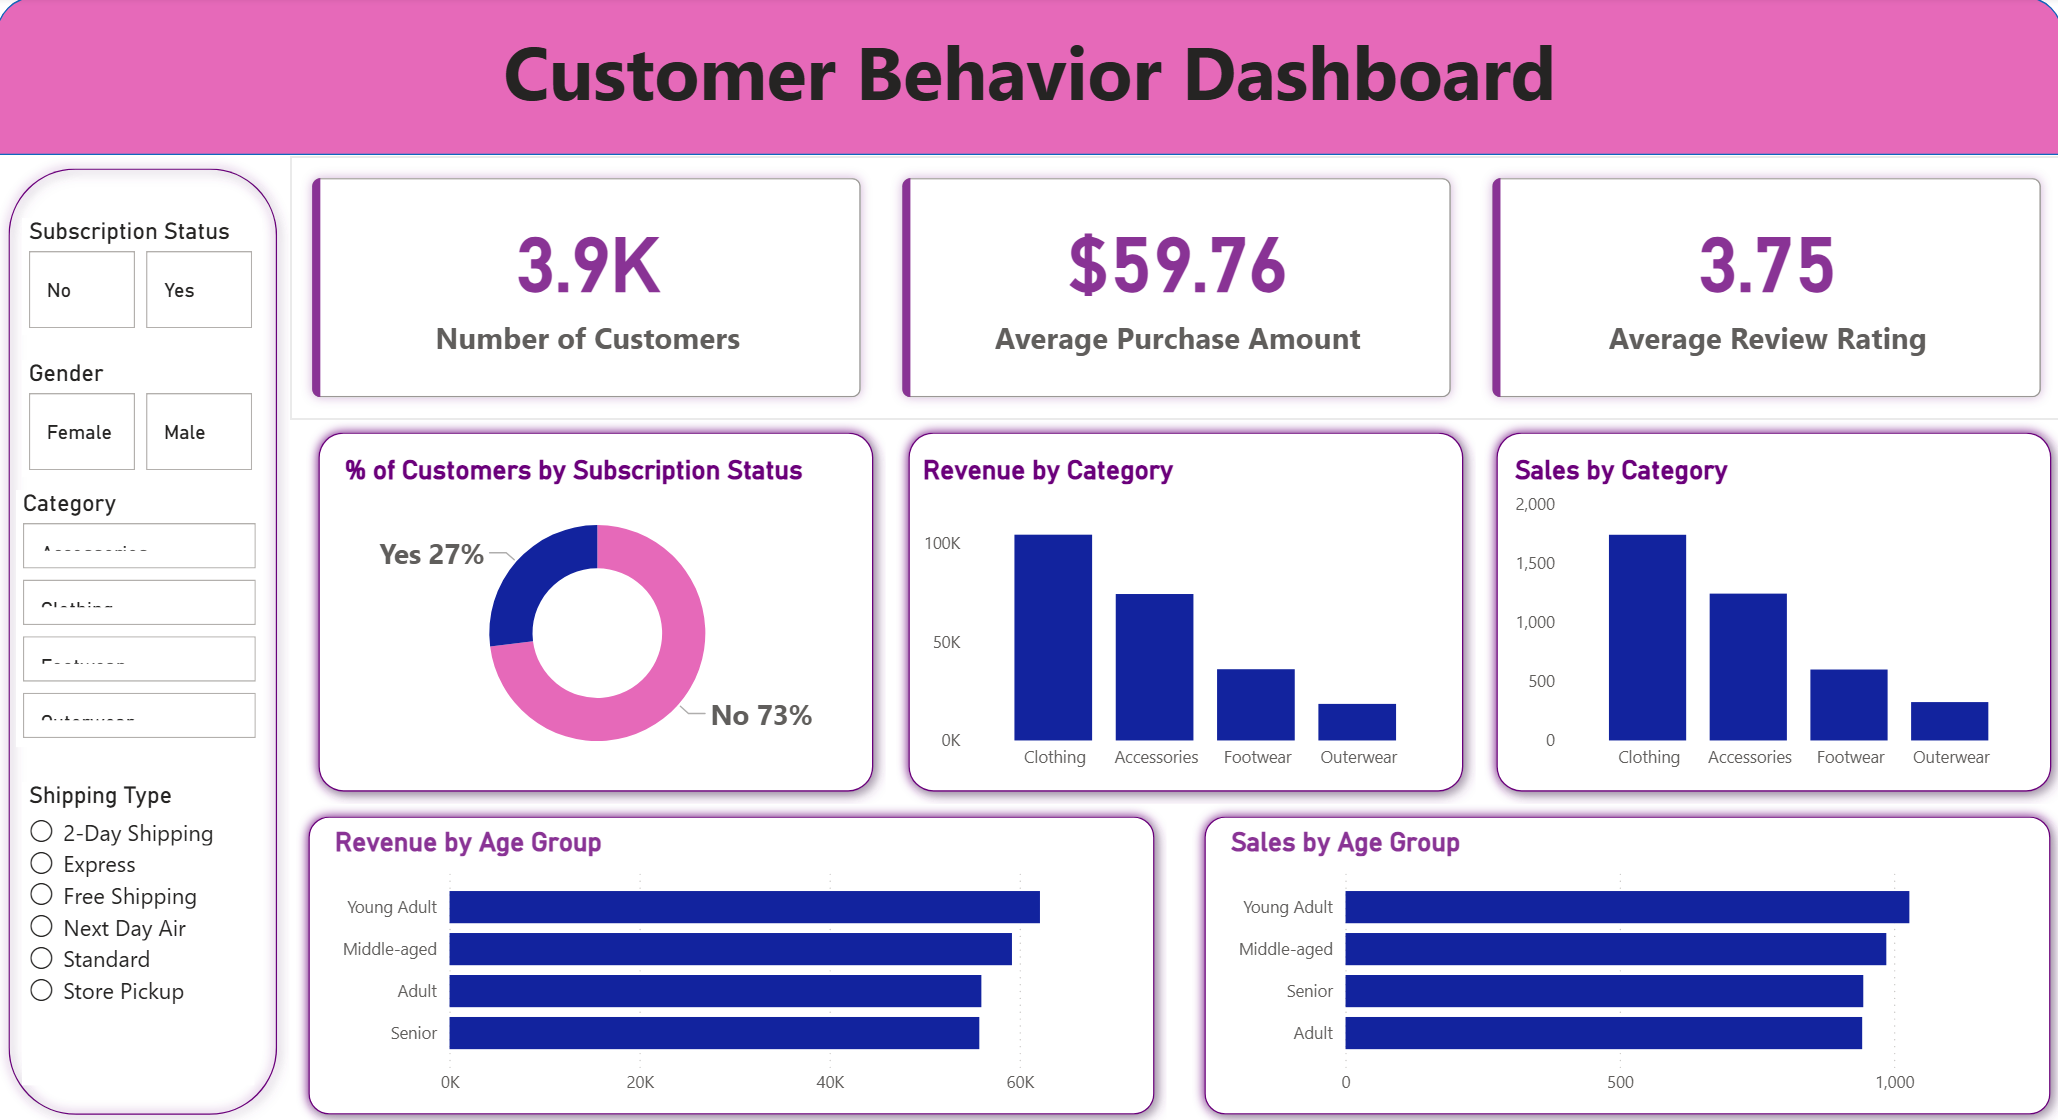

The dashboard page shown, as its layout file describes it:
{"tool":"powerbi","page":{"name":"Page 1","canvas":[1500,820],"ordinal":0},"visuals":[{"type":"shape","box":[0,100,306,720],"z":0},{"type":"shape","box":[290,608,598,212],"z":1000},{"type":"cardVisual","fields":{"Data":["public customer.Number of Customer","public customer.Average Purchase Amount","public customer.Average Review Rating"]},"box":[306,100,1194,262],"z":2000},{"type":"shape","box":[0,0,1500,100],"z":3000},{"type":"textbox","box":[432,14,634,72],"z":4000},{"type":"shape","box":[306,340,386,276],"z":5000},{"type":"shape","box":[694,340,402,274],"z":6000},{"type":"shape","box":[1098,340,402,274],"z":7000},{"type":"donutChart","title":"% of Customer by Subscribers Status","fields":{"Category":["public customer.subscription_status"],"Y":["CountNonNull(public customer.customer_id)"]},"box":[320,354,374,268],"z":8000},{"type":"clusteredColumnChart","title":"Revenue By Category","fields":{"Y":["Sum(public customer.purchase_amount)"],"Category":["public customer.category"]},"box":[710,362,388,252],"z":9000},{"type":"clusteredColumnChart","title":"Sales By Category","fields":{"Category":["public customer.category"],"Y":["Sum(public customer.customer_id)"]},"box":[1112,362,388,252],"z":10000},{"type":"advancedSlicerVisual","title":"Subscription Status","fields":{"Values":["public customer.subscription_status"]},"box":[20,138,250,78],"z":11000},{"type":"listSlicer","title":"Shipping Type","fields":{"Values":["public customer.shipping_type"]},"box":[16,572,266,230],"z":13000},{"type":"clusteredBarChart","title":"Revenue By Age Group","fields":{"Y":["Sum(public customer.purchase_amount)"],"Category":["public customer.age_group"]},"box":[306,622,582,198],"z":14000},{"type":"shape","box":[904,608,596,212],"z":15000},{"type":"clusteredBarChart","title":"Sales By Age Group","fields":{"Category":["public customer.age_group"],"Y":["CountNonNull(public customer.customer_id)"]},"box":[920,622,564,198],"z":16000},{"type":"advancedSlicerVisual","title":"Gender","fields":{"Values":["public customer.gender"]},"box":[20,232,246,100],"z":17000},{"type":"advancedSlicerVisual","title":"Category","fields":{"Values":["public customer.category"]},"box":[20,334,262,238],"z":17500}]}

Visuals, with their boxes in screenshot pixels (x1, y1, x2, y2), scaled from the page's 1500x820 canvas onto the 2058x1120 screenshot:
shape: select_region(0, 137, 420, 1119)
shape: select_region(398, 830, 1218, 1119)
cardVisual - public customer.Number of Customer x public customer.Average Purchase Amount: select_region(420, 137, 2057, 494)
shape: select_region(0, 0, 2057, 137)
textbox: select_region(593, 19, 1463, 117)
shape: select_region(420, 464, 949, 841)
shape: select_region(952, 464, 1504, 839)
shape: select_region(1506, 464, 2057, 839)
"% of Customer by Subscribers Status" donutChart: select_region(439, 484, 952, 850)
"Revenue By Category" clusteredColumnChart: select_region(974, 494, 1506, 839)
"Sales By Category" clusteredColumnChart: select_region(1526, 494, 2057, 839)
"Subscription Status" advancedSlicerVisual: select_region(27, 188, 370, 295)
"Shipping Type" listSlicer: select_region(22, 781, 387, 1095)
"Revenue By Age Group" clusteredBarChart: select_region(420, 850, 1218, 1119)
shape: select_region(1240, 830, 2057, 1119)
"Sales By Age Group" clusteredBarChart: select_region(1262, 850, 2036, 1119)
"Gender" advancedSlicerVisual: select_region(27, 317, 365, 453)
"Category" advancedSlicerVisual: select_region(27, 456, 387, 781)
